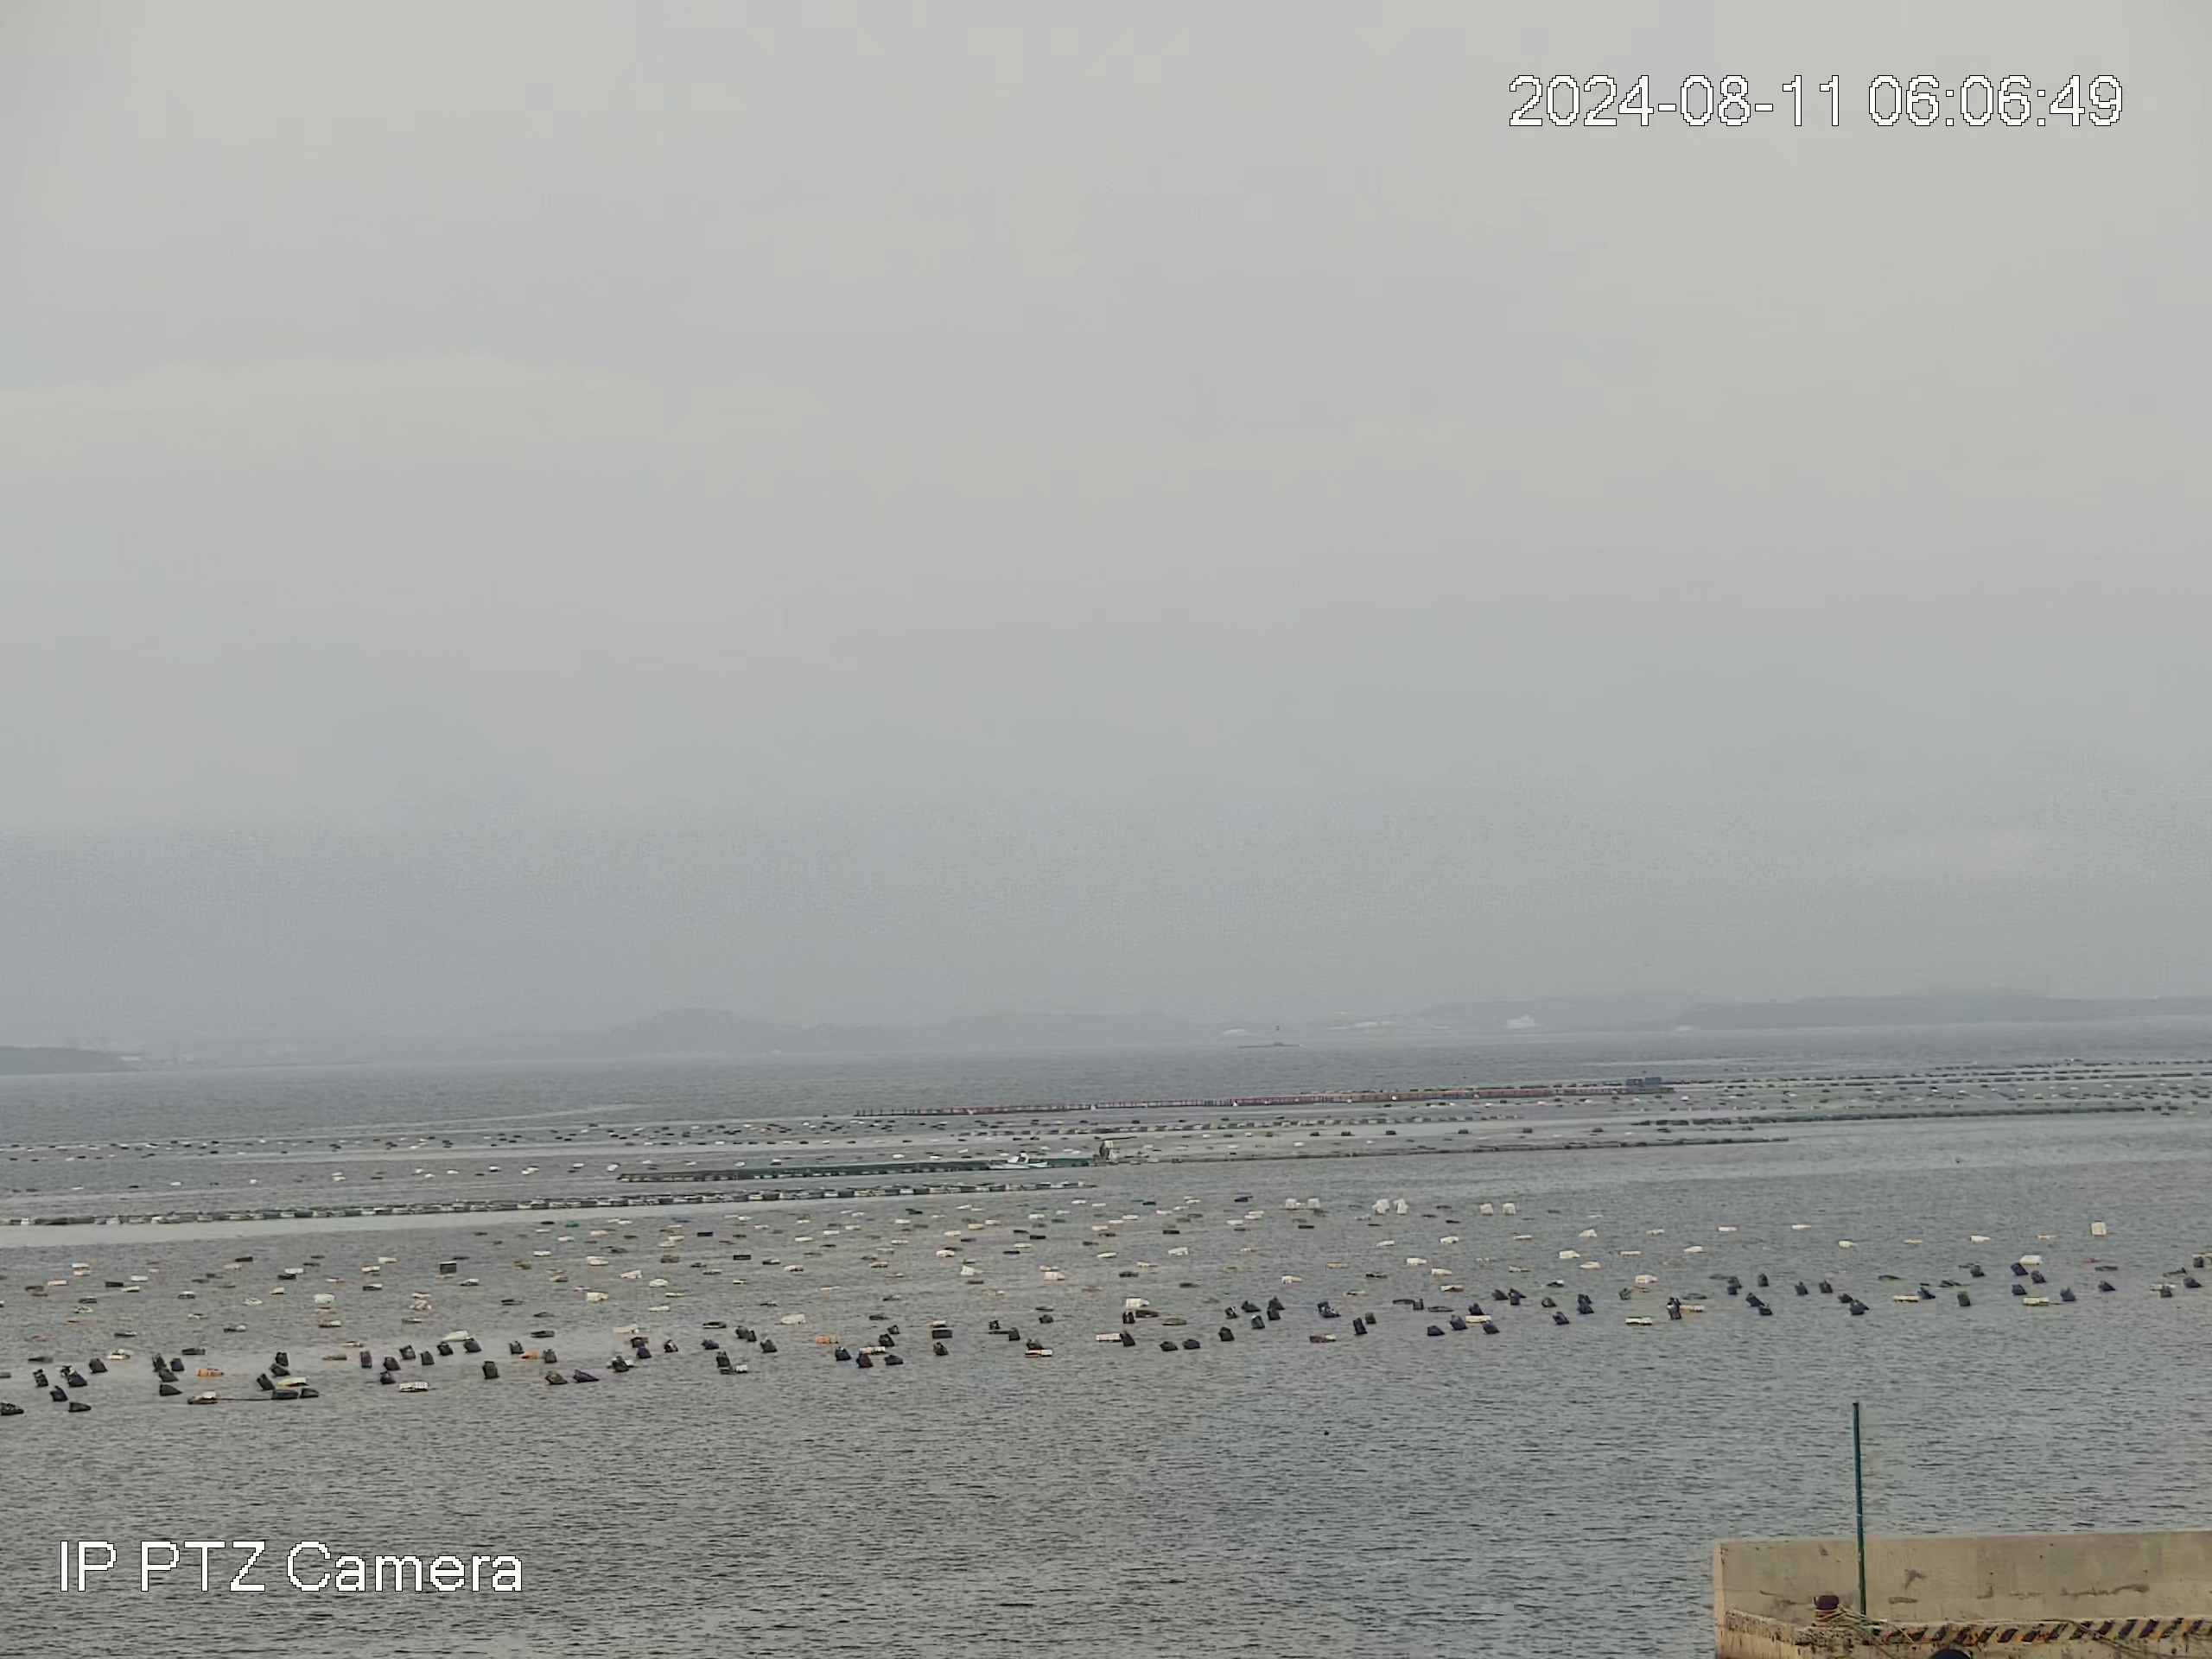boat: (984, 1148, 1049, 1171)
